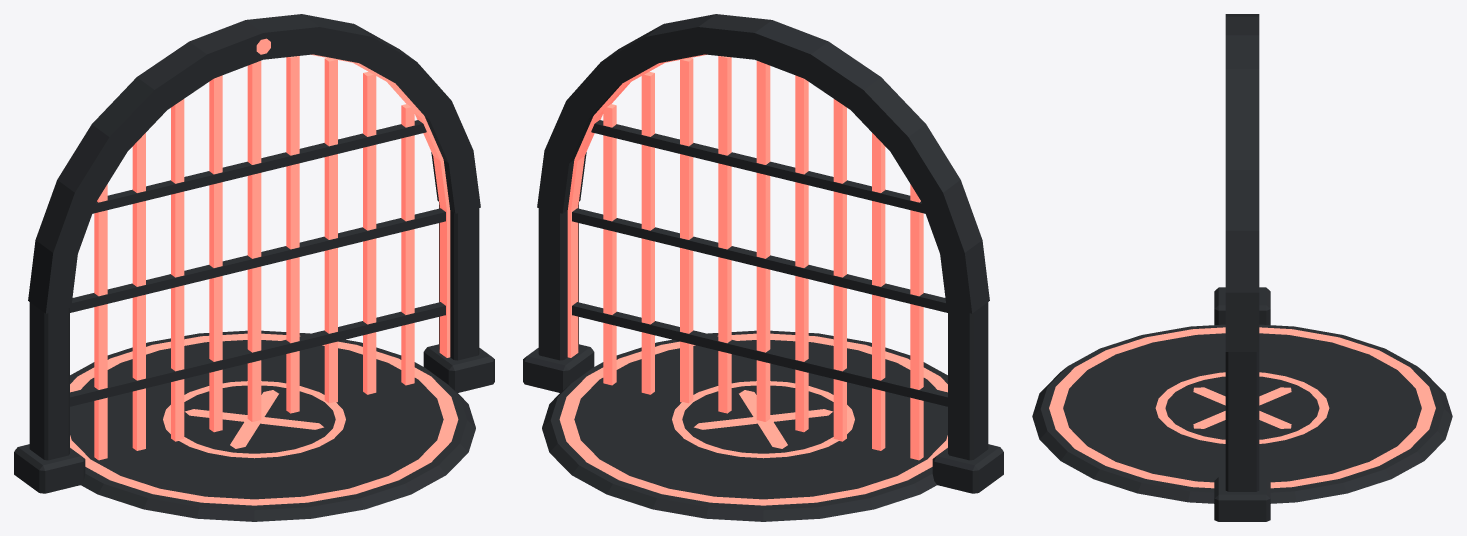
File: portal_locked.glb
The picture shows the model from 3 angles, left to right: view 1: azimuth 30°, elevation 25°; view 2: azimuth 150°, elevation 25°; view 3: azimuth 270°, elevation 25°; orthographic projection. The views are drawn at different scales.
Visible parts, largest first — view 1: Mesh; view 2: Mesh; view 3: Mesh.
Part boxes in pixels (x1,y1,x2,y2): Mesh: [14, 14, 494, 521]; Mesh: [523, 14, 1003, 521]; Mesh: [1032, 14, 1452, 521].
Size of the model in its own units: 3.56 by 3 by 3.
